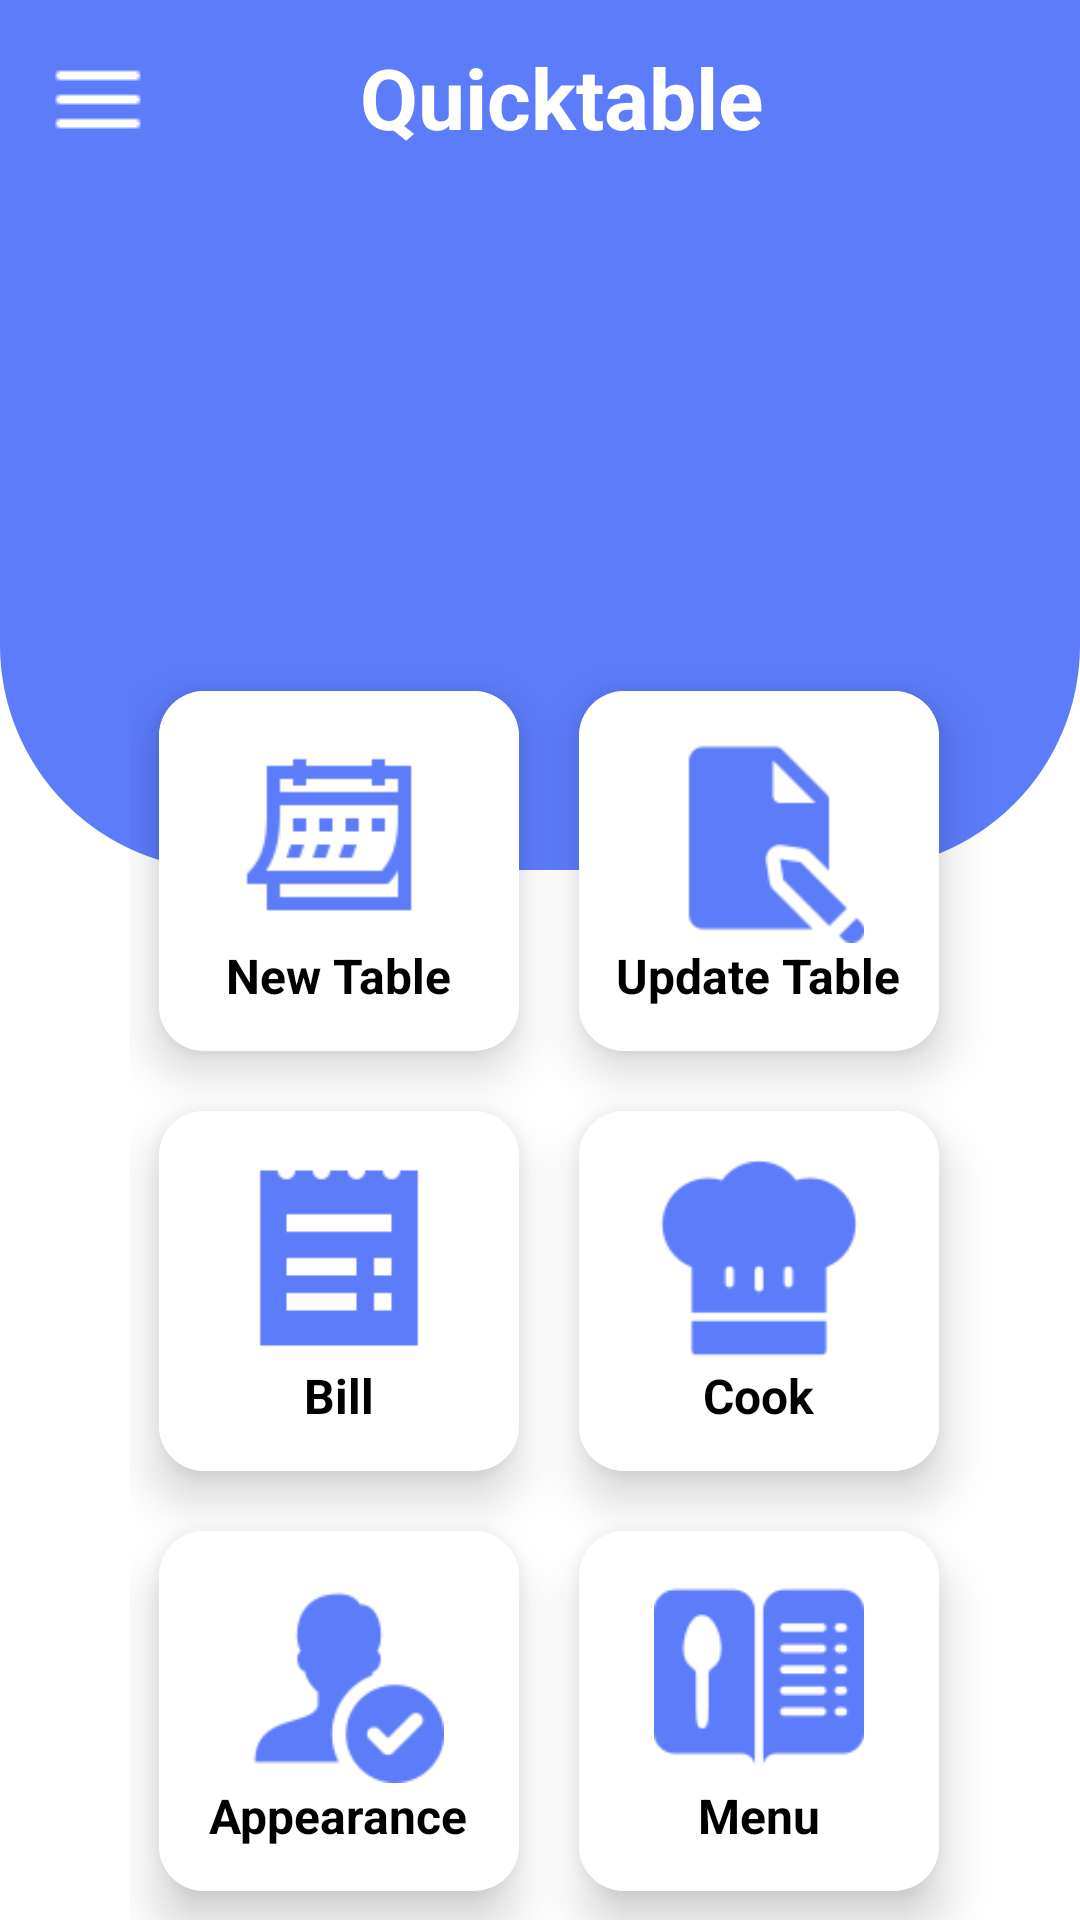

Named icons in this screenshot (1080px x 1920px) and their bounding boxes, bbox=[x1, y1, x2, y2]:
Menu button: bbox=[55, 70, 141, 129]
